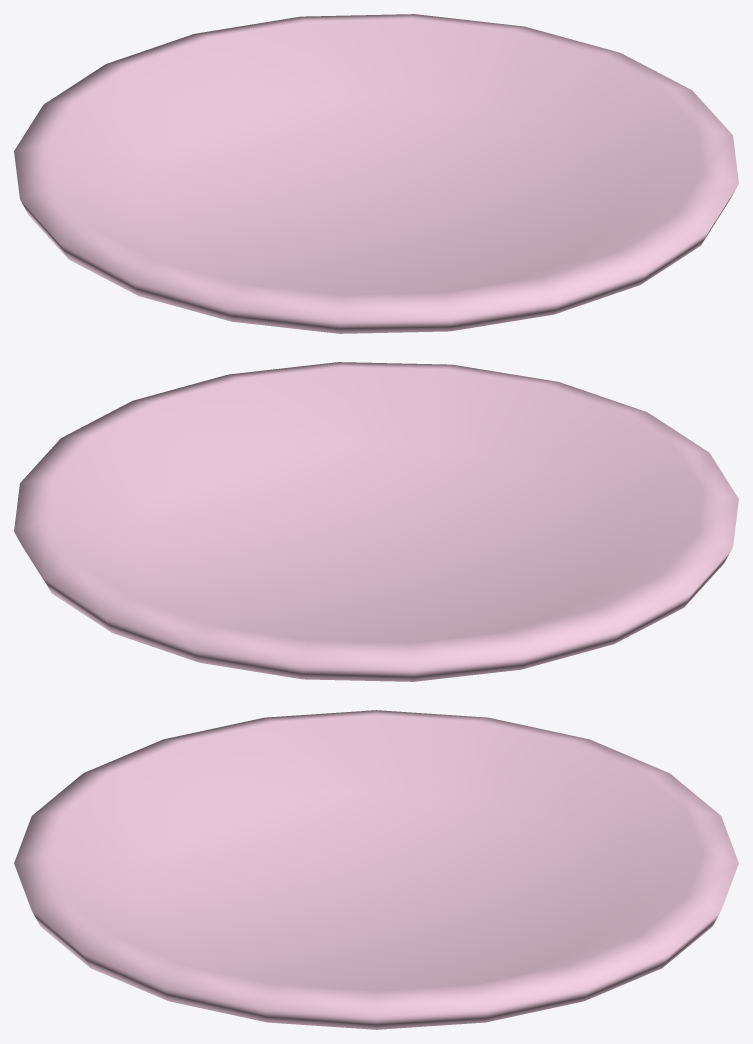
File: plate_cute.glb
3 renders of one model, top to bottom at view 1: azimuth 30°, elevation 25°; view 2: azimuth 150°, elevation 25°; view 3: azimuth 270°, elevation 25°, orthographic.
Visible parts, largest first — view 1: plate1_geo1; view 2: plate1_geo1; view 3: plate1_geo1.
Boxes of the visible parts, <box> form: plate1_geo1: <box>14,14,738,333</box>; plate1_geo1: <box>14,362,738,681</box>; plate1_geo1: <box>14,710,738,1029</box>.
Size of the model in its own units: 0.3129 by 0.03 by 0.3129.
Materials: 1 (1 with a texture image).
